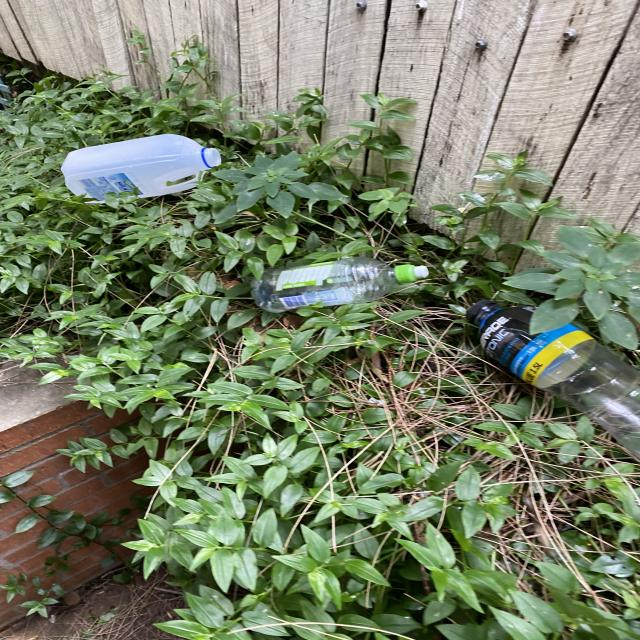bottle: (463, 297, 640, 481), (57, 130, 229, 214), (243, 254, 438, 316)
